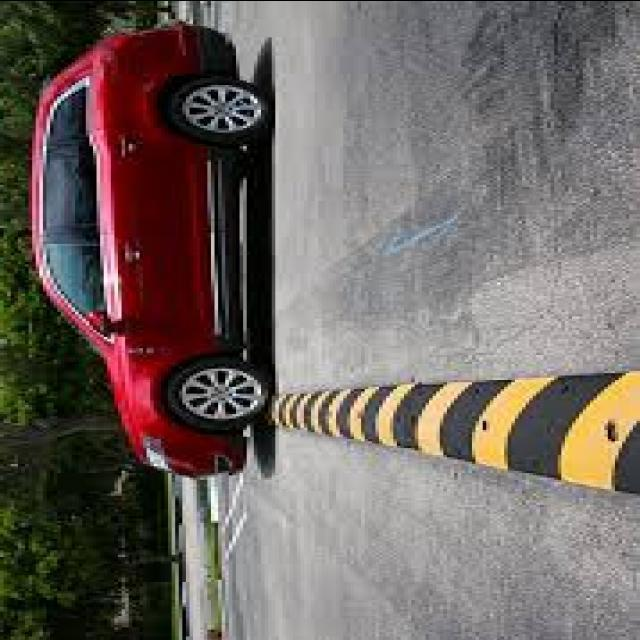speedbreaker: (259, 377, 640, 493)
